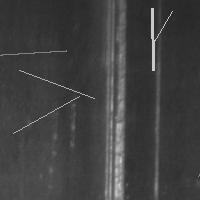scratches: (101, 1, 129, 199), (8, 91, 84, 138), (14, 65, 99, 103), (151, 28, 163, 199), (148, 6, 177, 48), (0, 46, 71, 62), (147, 3, 158, 75), (193, 106, 200, 181)
